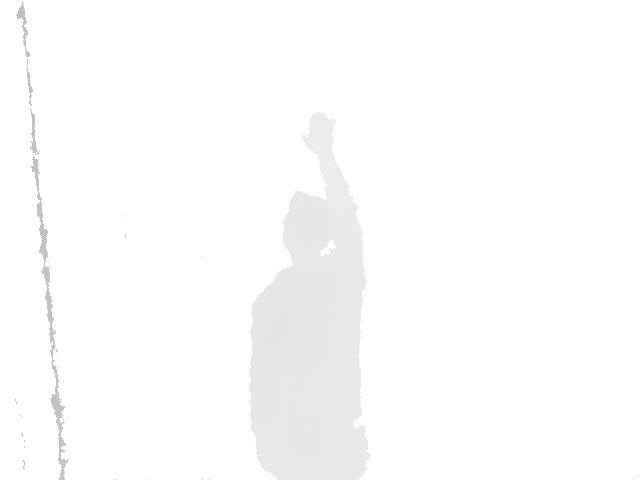hand: (302, 113, 335, 159)
head: (281, 190, 337, 262)
person: (248, 113, 371, 480)
